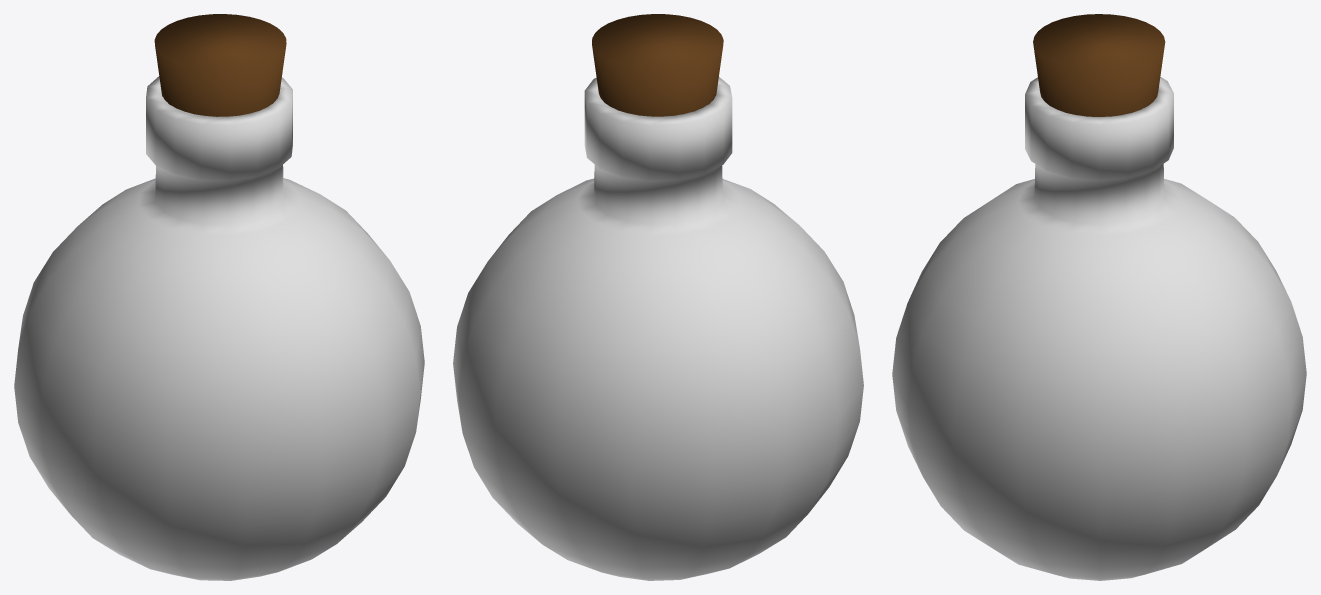
File: Potion2.fbx
The picture shows the model from 3 angles, left to right: view 1: azimuth 30°, elevation 25°; view 2: azimuth 150°, elevation 25°; view 3: azimuth 270°, elevation 25°; orthographic projection.
Parts seen in each view (by area): view 1: Vidro2, Rolha2; view 2: Vidro2, Rolha2; view 3: Vidro2, Rolha2.
Part boxes in pixels (box(x1,y1,x2,y2)): Vidro2: box(14, 76, 424, 580); Rolha2: box(154, 14, 286, 116); Vidro2: box(453, 77, 863, 580); Rolha2: box(592, 14, 723, 116); Vidro2: box(892, 77, 1306, 580); Rolha2: box(1033, 14, 1165, 116).
Size of the model in its own units: 54.66 by 75.64 by 54.66.
